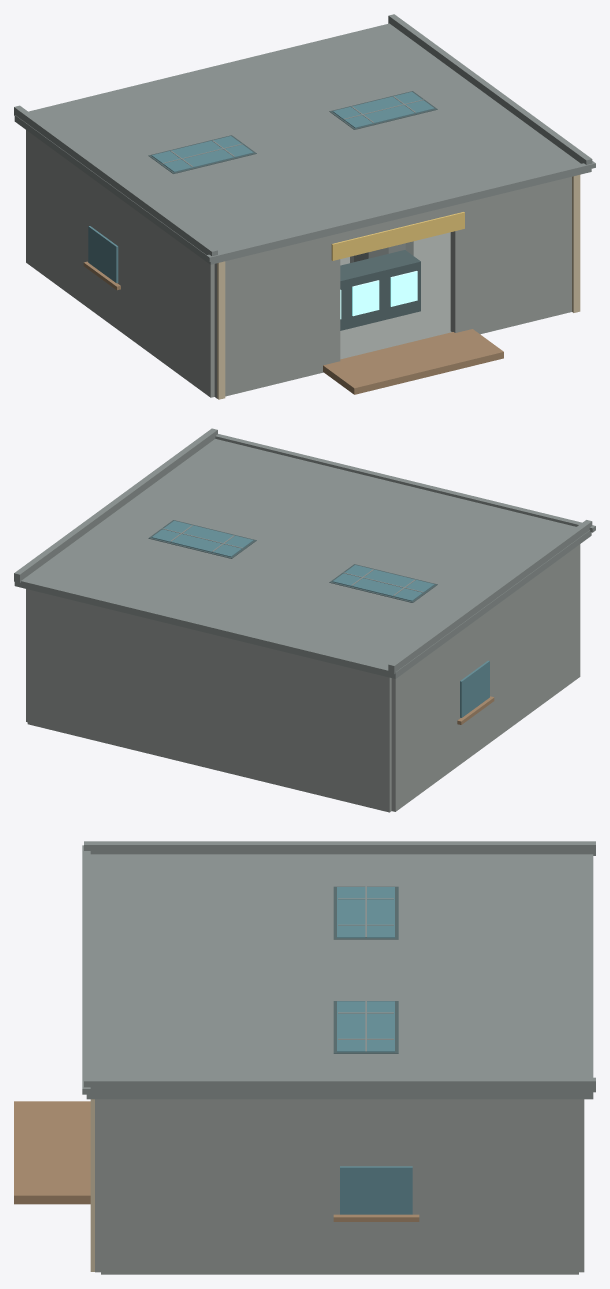
The model's file is renovated_power.glb.
3 views of the same model, one above another, from view 1: azimuth 30°, elevation 25°; view 2: azimuth 150°, elevation 25°; view 3: azimuth 270°, elevation 25° (orthographic). The views are drawn at different scales.
Parts seen in each view (by area): view 1: roof deck.004, WALL_side masonry.008, WALL_entrance pier.009, WALL_entrance pier.008, porch landing.004, FLOOR_repaired slab.004, battery rack, front rain gutter.004, roof edge.009, roof edge.008, electrical front fascia, solar blue photovoltaic glass.001 (+7 smaller); view 2: roof deck.004, WALL_rear masonry.004, WALL_side masonry.008, roof edge.008, roof edge.009, front rain gutter.004, solar blue photovoltaic glass.002, solar blue photovoltaic glass.001, side reused window.008; view 3: roof deck.004, WALL_side masonry.009, porch landing.004, roof edge.009, roof edge.008, side reused window.009, solar blue photovoltaic glass.002, solar blue photovoltaic glass.001, front rain gutter.004, WALL_entrance pier.009, WALL_rear masonry.004, corner plaster trim.009 (+3 smaller).
Boxes of the visible parts, left/top/right/bottom form: roof deck.004: left=14, top=23, right=591, bottom=264; WALL_side masonry.008: left=26, top=130, right=214, bottom=397; WALL_entrance pier.009: left=450, top=176, right=571, bottom=334; WALL_entrance pier.008: left=214, top=233, right=340, bottom=398; porch landing.004: left=323, top=329, right=503, bottom=394; FLOOR_repaired slab.004: left=340, top=232, right=451, bottom=359; battery rack: left=340, top=250, right=420, bottom=330; front rain gutter.004: left=206, top=161, right=595, bottom=261; roof edge.009: left=388, top=14, right=592, bottom=164; roof edge.008: left=14, top=105, right=217, bottom=256; electrical front fascia: left=331, top=212, right=464, bottom=260; solar blue photovoltaic glass.001: left=151, top=136, right=253, bottom=172; roof deck.004: left=14, top=439, right=591, bottom=678; WALL_rear masonry.004: left=27, top=589, right=391, bottom=812; WALL_side masonry.008: left=391, top=544, right=580, bottom=811; roof edge.008: left=388, top=520, right=592, bottom=674; roof edge.009: left=14, top=428, right=217, bottom=582; front rain gutter.004: left=215, top=434, right=595, bottom=532; solar blue photovoltaic glass.002: left=151, top=520, right=253, bottom=556; solar blue photovoltaic glass.001: left=332, top=565, right=434, bottom=601; side reused window.008: left=460, top=660, right=489, bottom=717; roof deck.004: left=86, top=854, right=593, bottom=1099; WALL_side masonry.009: left=101, top=1099, right=578, bottom=1274; porch landing.004: left=14, top=1101, right=90, bottom=1204; roof edge.009: left=84, top=1077, right=595, bottom=1092; roof edge.008: left=84, top=841, right=595, bottom=855; side reused window.009: left=340, top=1166, right=412, bottom=1214; solar blue photovoltaic glass.002: left=337, top=1001, right=394, bottom=1052; solar blue photovoltaic glass.001: left=337, top=887, right=394, bottom=937; front rain gutter.004: left=82, top=845, right=90, bottom=1094; WALL_entrance pier.009: left=95, top=1099, right=100, bottom=1272; WALL_rear masonry.004: left=579, top=1099, right=584, bottom=1272; corner plaster trim.009: left=90, top=1099, right=94, bottom=1271.
Bounding box in the file's own units: 11.1 × 4.18 × 11.2.
